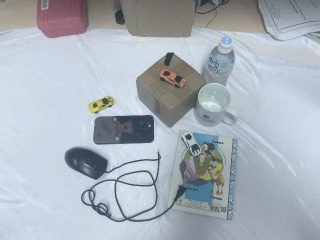book: (165, 130, 246, 223)
bottle: (201, 34, 237, 86)
box: (136, 51, 206, 129), (116, 1, 196, 40)
cup: (194, 82, 240, 127)
mouse: (64, 146, 109, 180)
phone: (92, 114, 155, 146)
toy_car: (179, 132, 204, 159), (157, 69, 189, 88), (88, 96, 115, 113)
